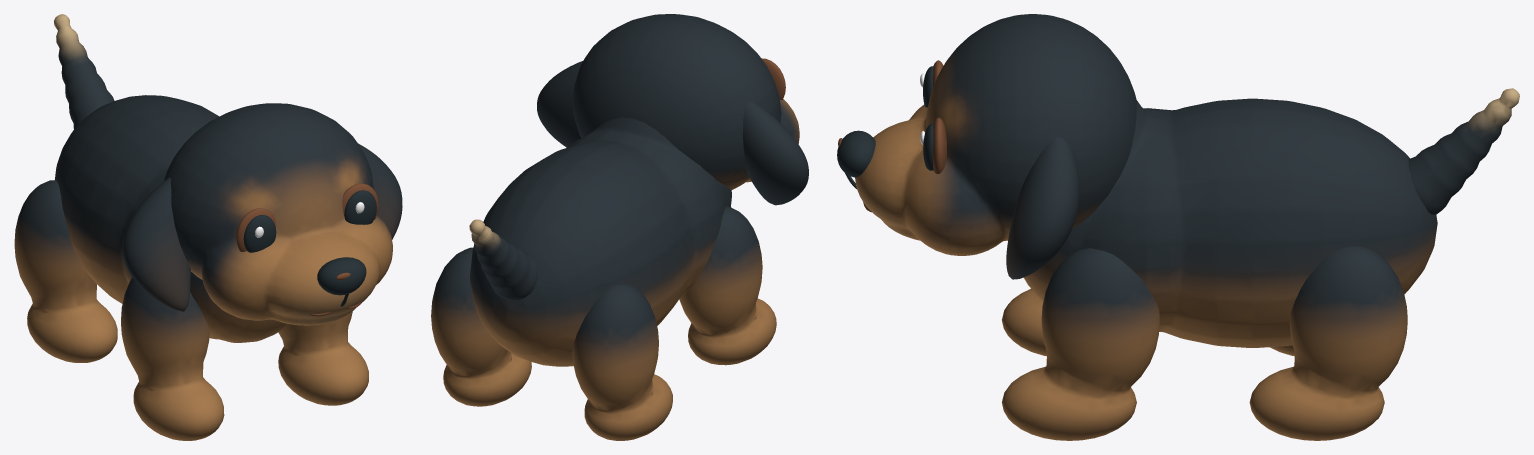
Rendered from dog.glb.
3 renders of one model, left to right at view 1: azimuth 30°, elevation 25°; view 2: azimuth 150°, elevation 25°; view 3: azimuth 270°, elevation 25°, orthographic. The views are drawn at different scales.
Visible parts, largest first — view 1: HeadMesh, BodyMesh, FrontLeftMesh, RearLeftMesh, FrontRightMesh, TailMesh; view 2: BodyMesh, HeadMesh, RearLeftMesh, FrontLeftMesh, RearRightMesh, TailMesh; view 3: BodyMesh, HeadMesh, RearRightMesh, FrontRightMesh, TailMesh, FrontLeftMesh.
Boxes of the visible parts, bbox=[...] form: HeadMesh: bbox=[123, 103, 402, 325]; BodyMesh: bbox=[55, 95, 288, 342]; FrontLeftMesh: bbox=[121, 277, 224, 440]; RearLeftMesh: bbox=[14, 180, 117, 362]; FrontRightMesh: bbox=[278, 311, 368, 405]; TailMesh: bbox=[54, 14, 114, 129]; BodyMesh: bbox=[470, 117, 731, 366]; HeadMesh: bbox=[537, 14, 808, 205]; RearLeftMesh: bbox=[572, 284, 672, 440]; FrontLeftMesh: bbox=[679, 206, 776, 365]; RearRightMesh: bbox=[431, 247, 531, 406]; TailMesh: bbox=[469, 219, 537, 300]; BodyMesh: bbox=[1023, 98, 1437, 347]; HeadMesh: bbox=[837, 14, 1136, 279]; RearRightMesh: bbox=[1249, 246, 1407, 440]; FrontRightMesh: bbox=[1002, 248, 1159, 440]; TailMesh: bbox=[1408, 88, 1519, 214]; FrontLeftMesh: bbox=[1002, 289, 1046, 356].
Bounding box in the file's own units: 1.11 × 1.22 × 2.07.
